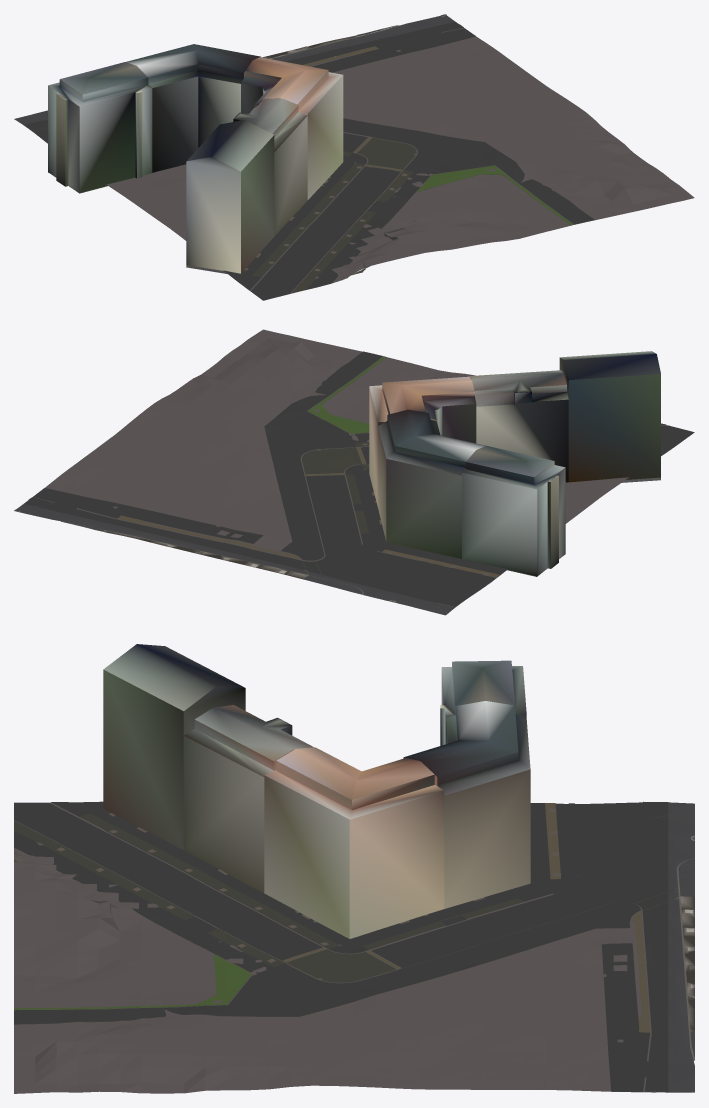
3 views of the same model, one above another, from view 1: azimuth 30°, elevation 25°; view 2: azimuth 150°, elevation 25°; view 3: azimuth 270°, elevation 25° (orthographic). The views are drawn at different scales.
Parts seen in each view (by area): view 1: append:c_p01_m09, c_p01_m09; view 2: append:c_p01_m09, c_p01_m09; view 3: append:c_p01_m09, c_p01_m09.
Boxes of the visible parts, box(x1,y1,x2,y2) form: append:c_p01_m09: box(24, 21, 694, 300); c_p01_m09: box(14, 14, 454, 273); append:c_p01_m09: box(24, 329, 694, 607); c_p01_m09: box(14, 351, 660, 615); append:c_p01_m09: box(14, 660, 668, 1093); c_p01_m09: box(103, 644, 694, 1092).
Bounding box in the file's own units: 137 × 32.92 × 128.
